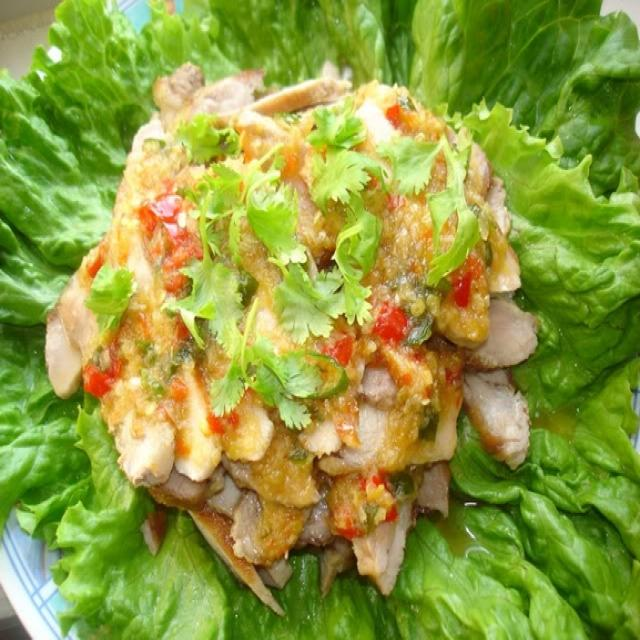猪肉菜式: (18, 24, 618, 620)
